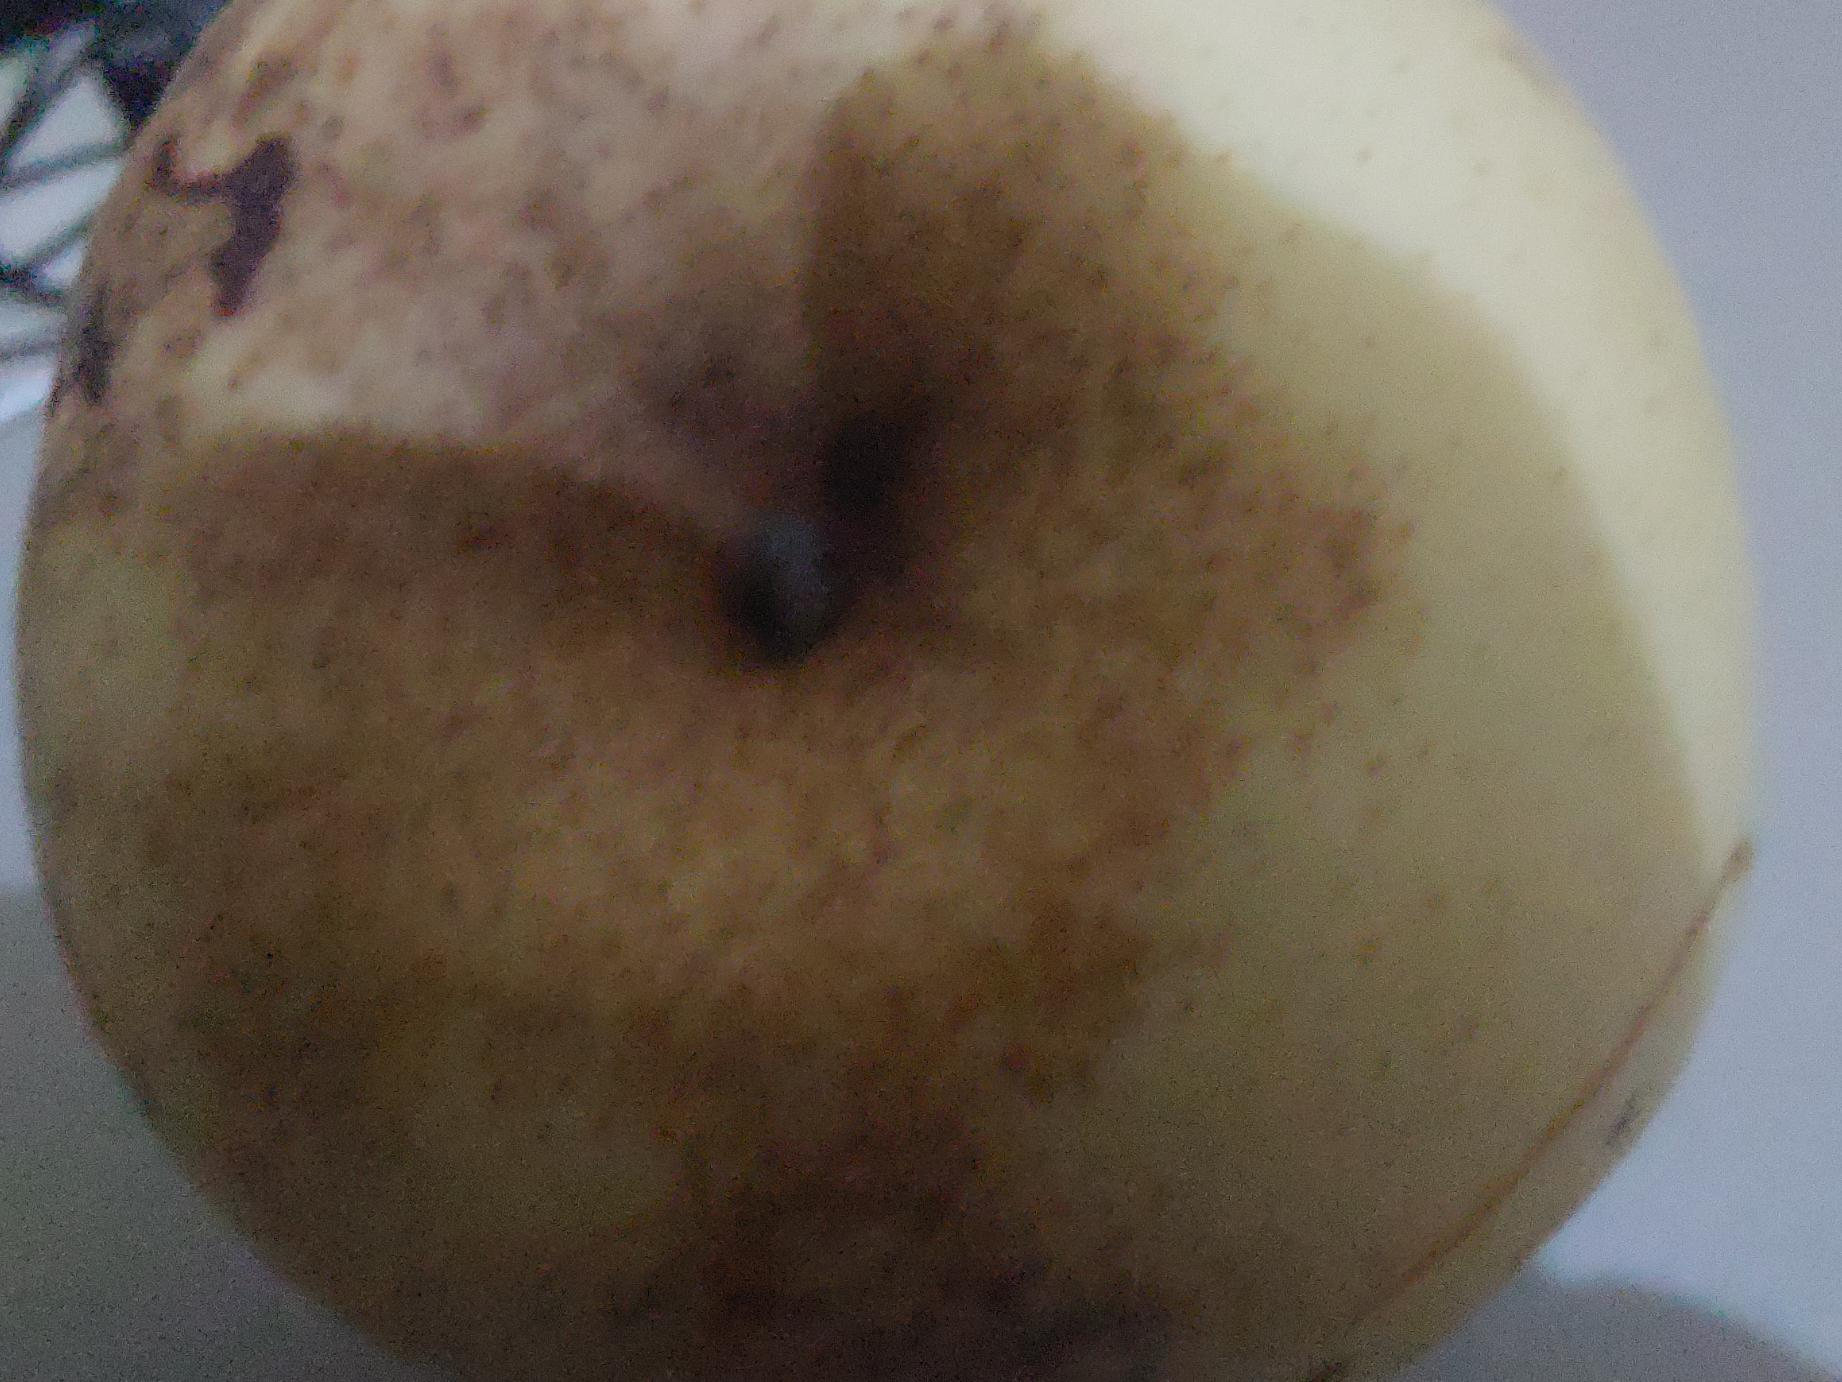Bad Pear: (20, 0, 1764, 1382)
